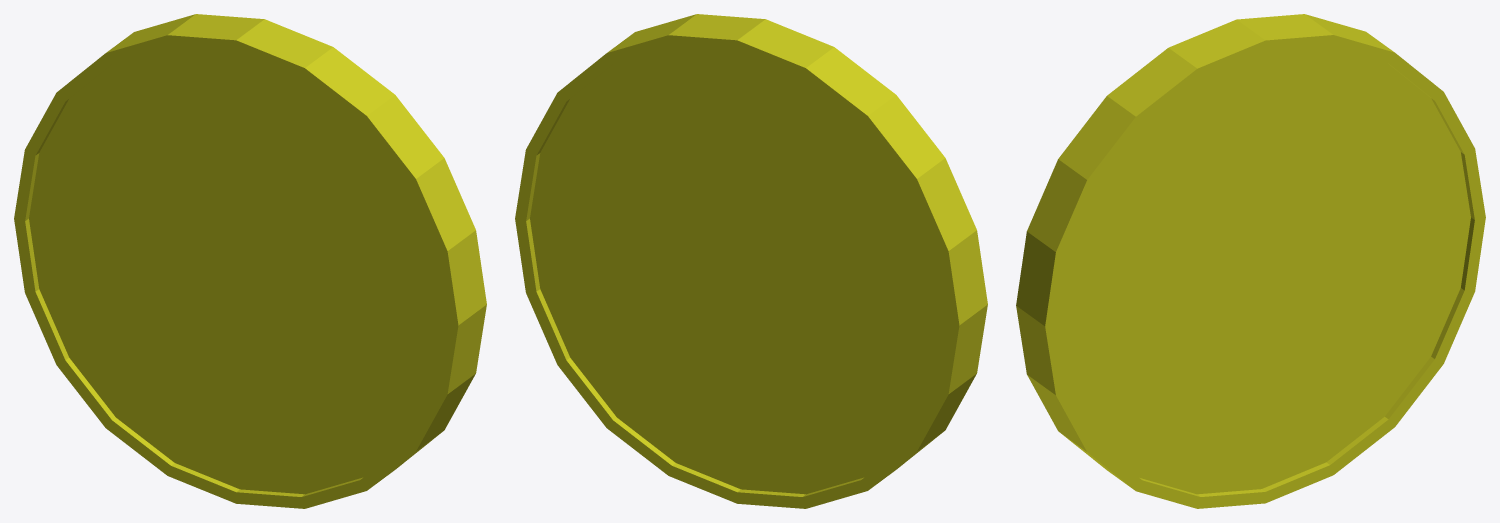
File: Low Poly Coin_000139.obj
The picture shows the model from 3 angles, left to right: view 1: azimuth 30°, elevation 25°; view 2: azimuth 210°, elevation 25°; view 3: azimuth 270°, elevation 25°; orthographic projection.
Parts seen in each view (by area): view 1: Cylinder; view 2: Cylinder; view 3: Cylinder.
Boxes of the visible parts, bbox=[...] form: Cylinder: bbox=[14, 14, 486, 508]; Cylinder: bbox=[515, 14, 987, 508]; Cylinder: bbox=[1016, 14, 1485, 508].
Bounding box in the file's own units: 1.21 × 2 × 1.84.
